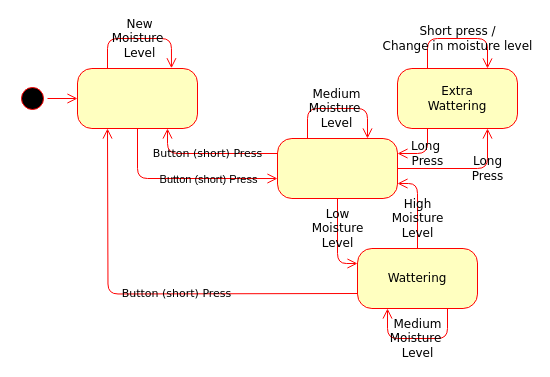
Image size: 550x377. Some labels were removed from this diagram. The shapes that lost their labels are listed below. From the top down, each one's centre as x and y in pixels, then its label:
At [137,98]: "Callibrating".
At [337,168]: "Analysing".
